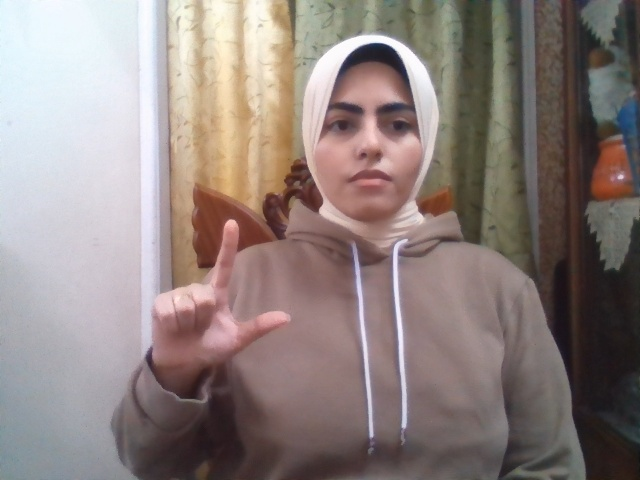L: (151, 219, 290, 369)
